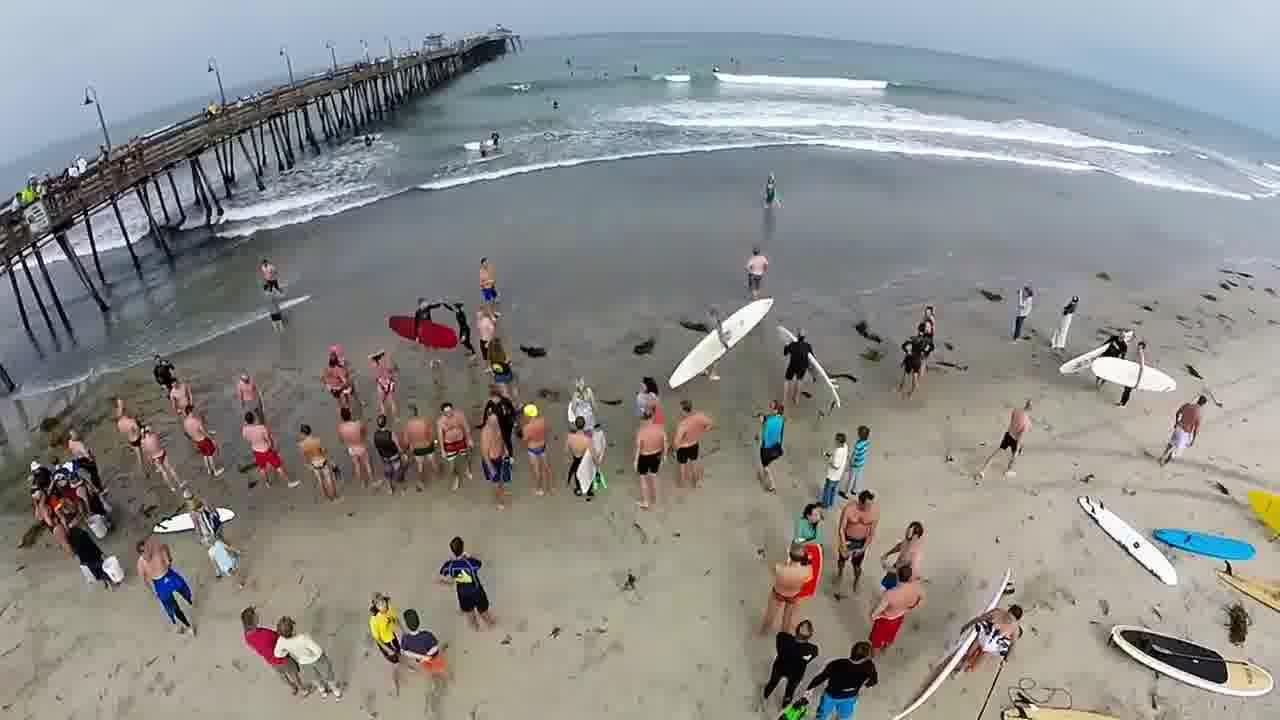human: (246, 242, 301, 295), (751, 152, 793, 216)
